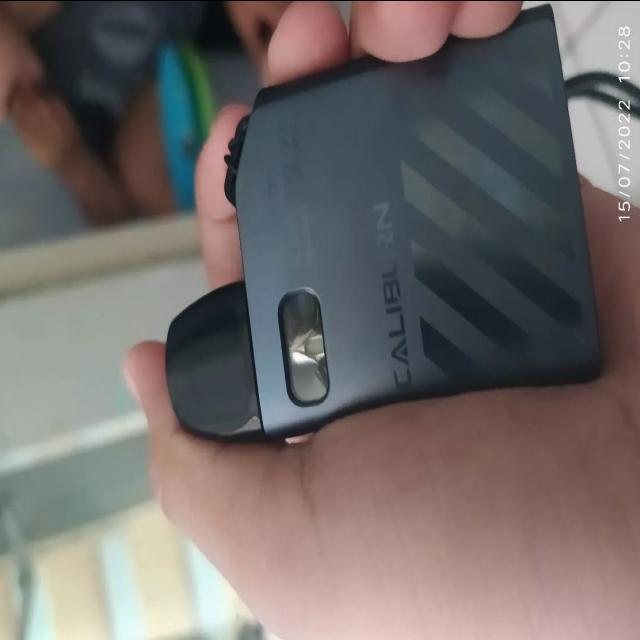Hazard: (162, 0, 600, 446)
